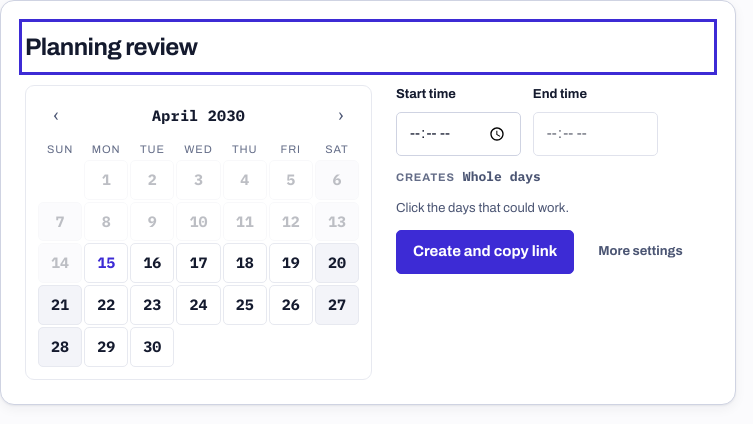
Scenario: AppointmentComposer validation › blocks a creation with no picked day
Click the button "Create and copy link".
click(485, 252)  # box [396,230,574,274]
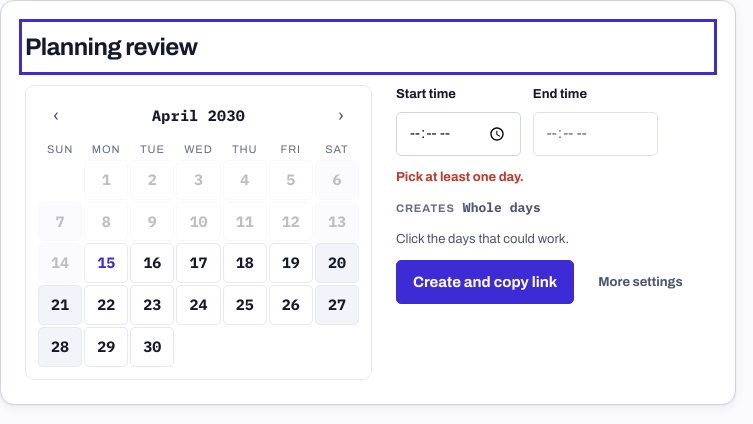
Now the message with id "composer-options-error" reads "Pick at least one day.", box [396,170,524,184]
